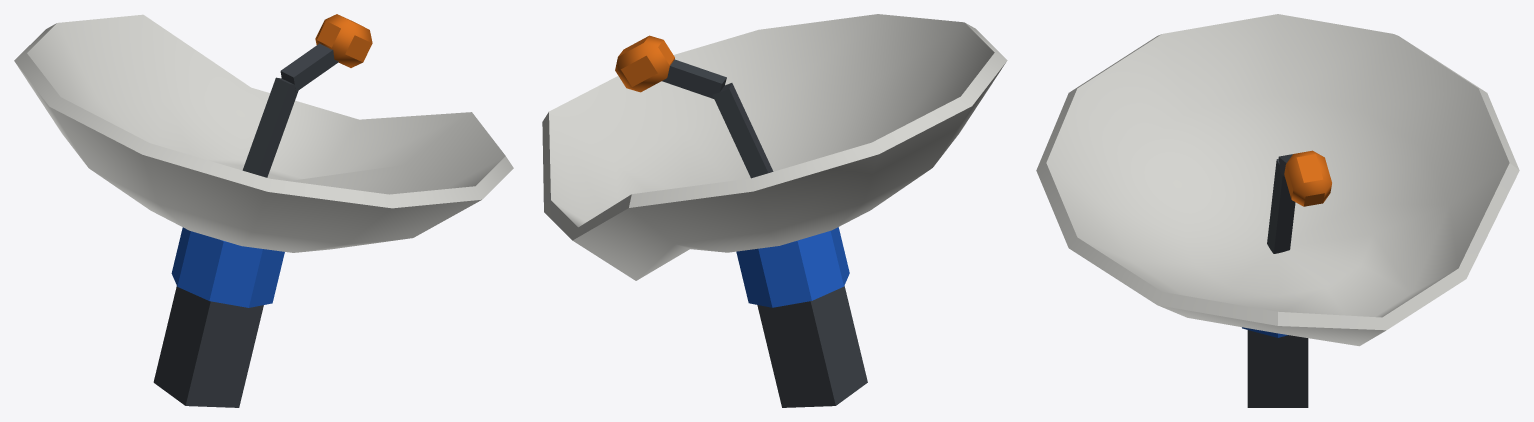
The model's file is dish.glb.
3 views of the same model, side by side, from view 1: azimuth 30°, elevation 25°; view 2: azimuth 150°, elevation 25°; view 3: azimuth 270°, elevation 25° (orthographic). The views are drawn at different scales.
Visible parts, largest first — view 1: Body; view 2: Body; view 3: Body.
Boxes of the visible parts, box(x1,y1,x2,y2) form: Body: box(14, 14, 513, 407); Body: box(542, 14, 1007, 407); Body: box(1036, 14, 1519, 407).
Size of the model in its own units: 0.9273 by 0.6997 by 0.96.
